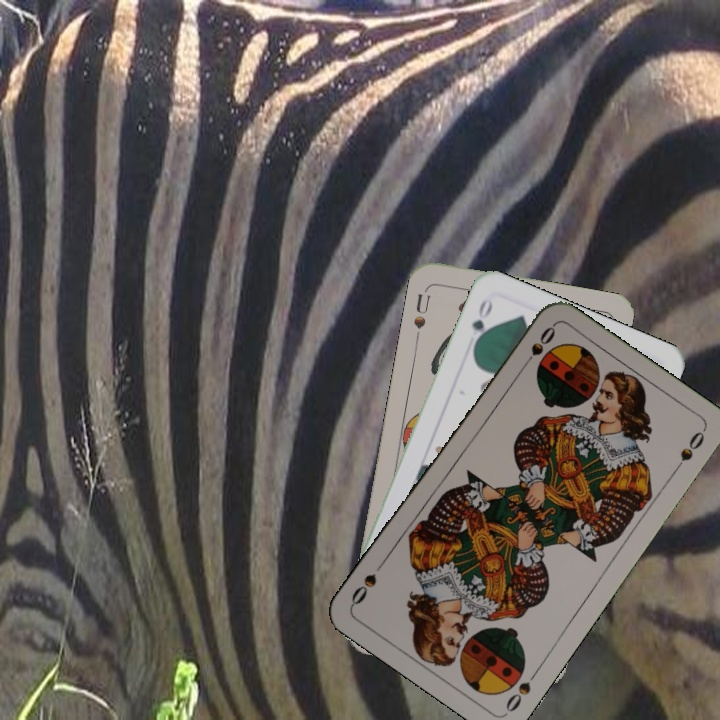GO: (467, 295, 495, 352)
SO: (517, 322, 558, 373), (501, 665, 542, 715)
SU: (409, 284, 433, 343)
